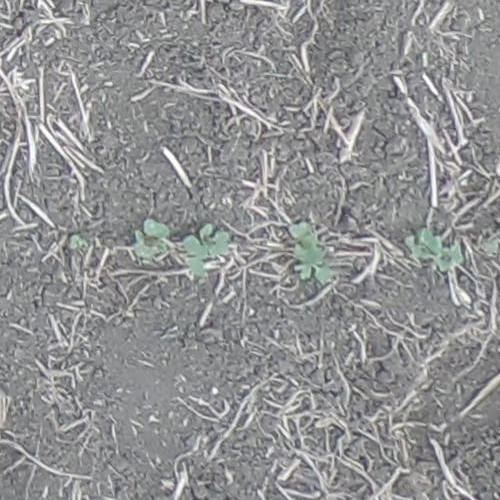isolated: (403, 227, 463, 272), (287, 220, 328, 284), (184, 223, 228, 276), (134, 218, 169, 258), (69, 233, 84, 251)
